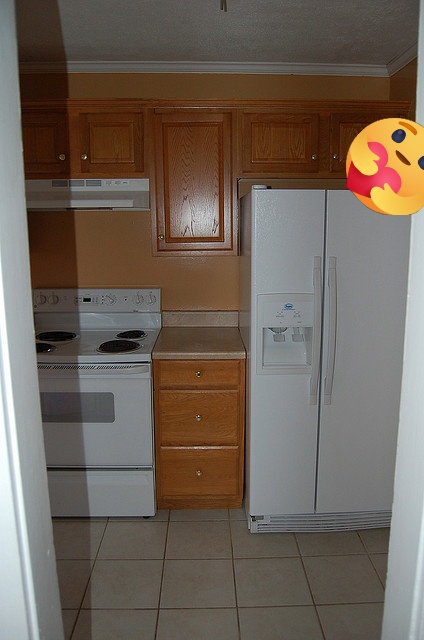care: (346, 118, 424, 215)
